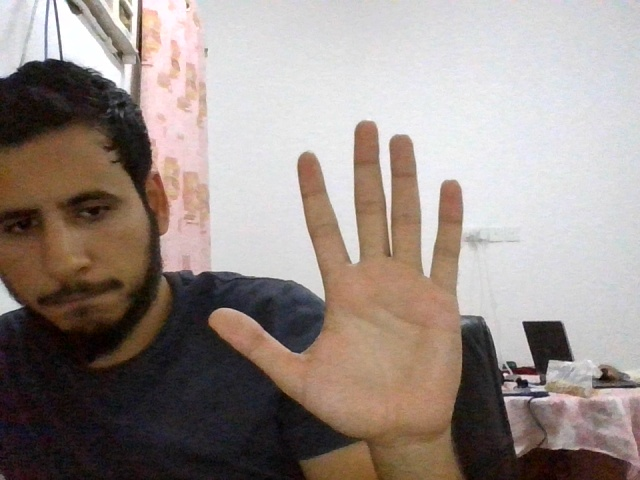Five: (208, 120, 464, 438)
